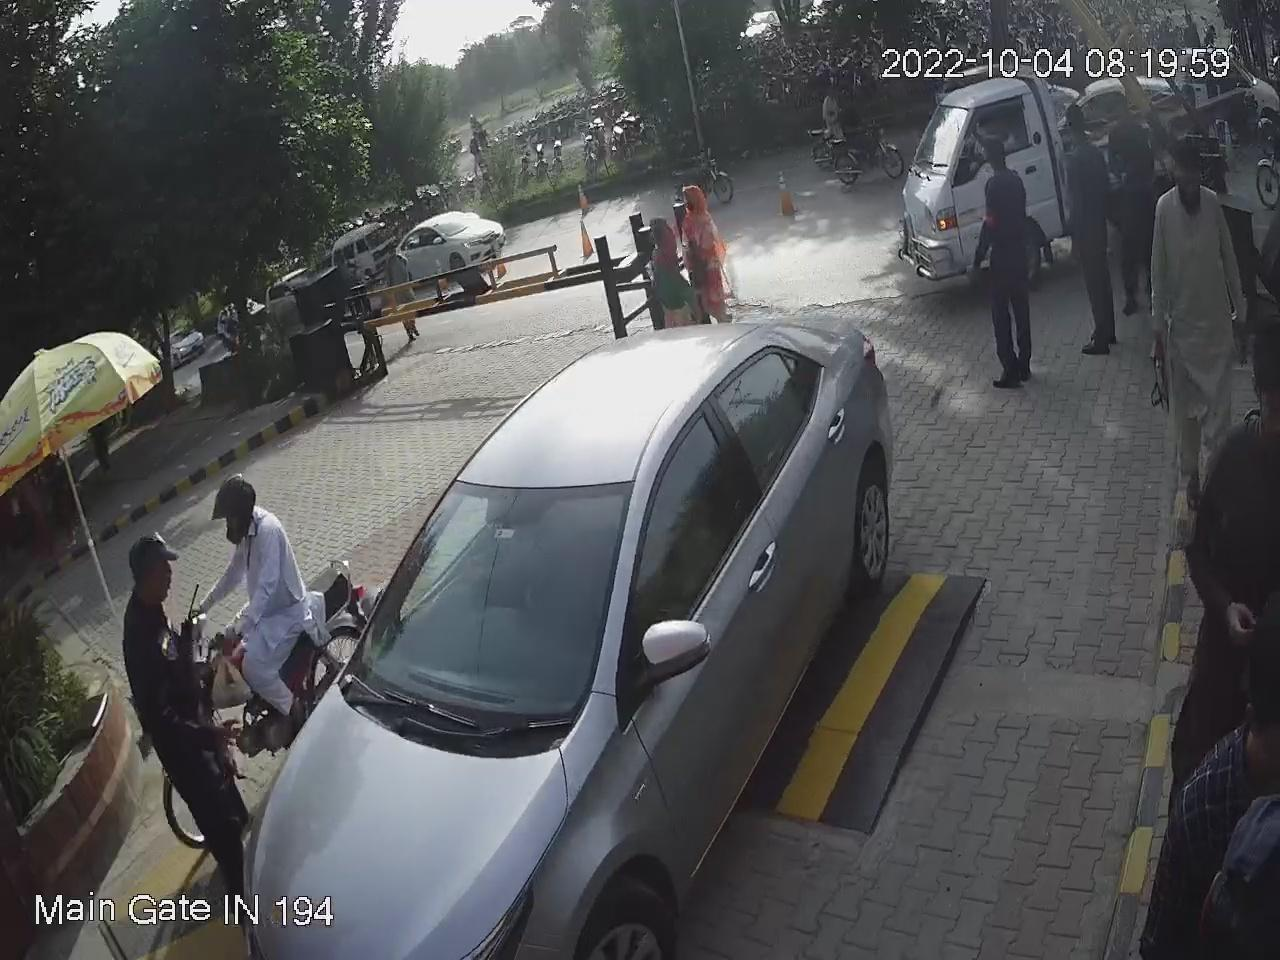windshield: (336, 475, 643, 747)
